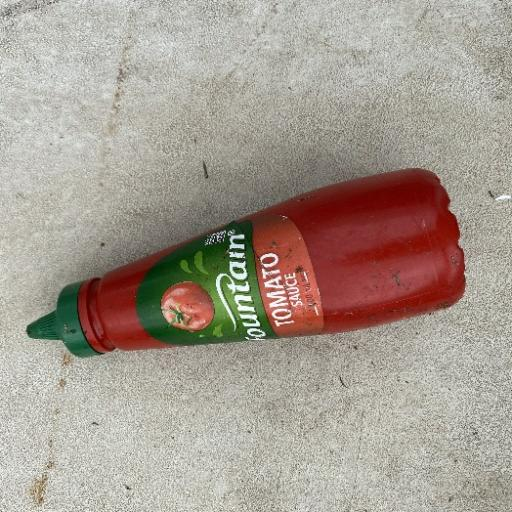Plastic: (24, 164, 468, 361)
